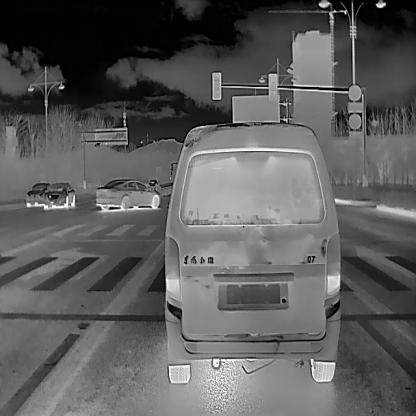car: (164, 119, 341, 382), (95, 176, 160, 210), (45, 180, 74, 208), (25, 183, 46, 206), (147, 178, 158, 188)
